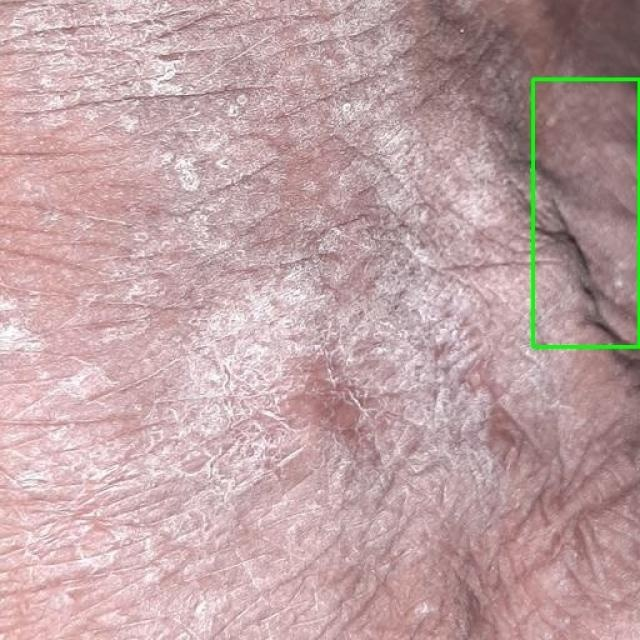Eczema: (532, 79, 639, 346)
